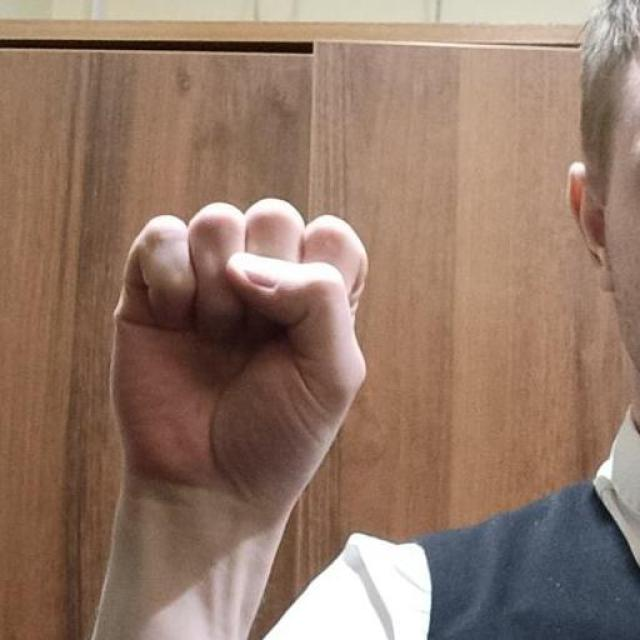hand: (106, 195, 370, 520)
